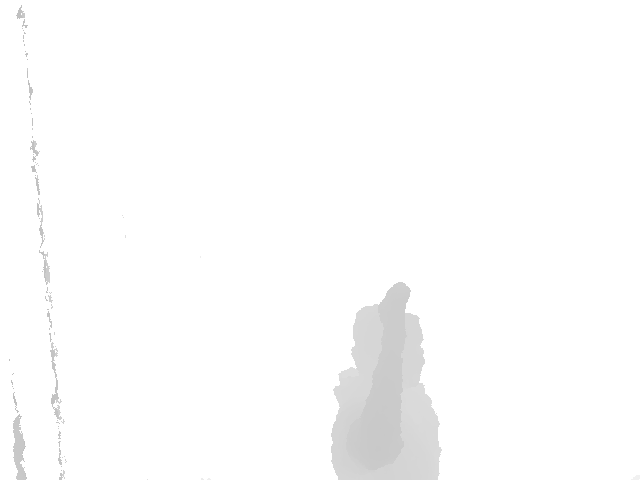hand: (377, 281, 413, 341)
head: (351, 306, 424, 381)
person: (330, 281, 443, 480)
